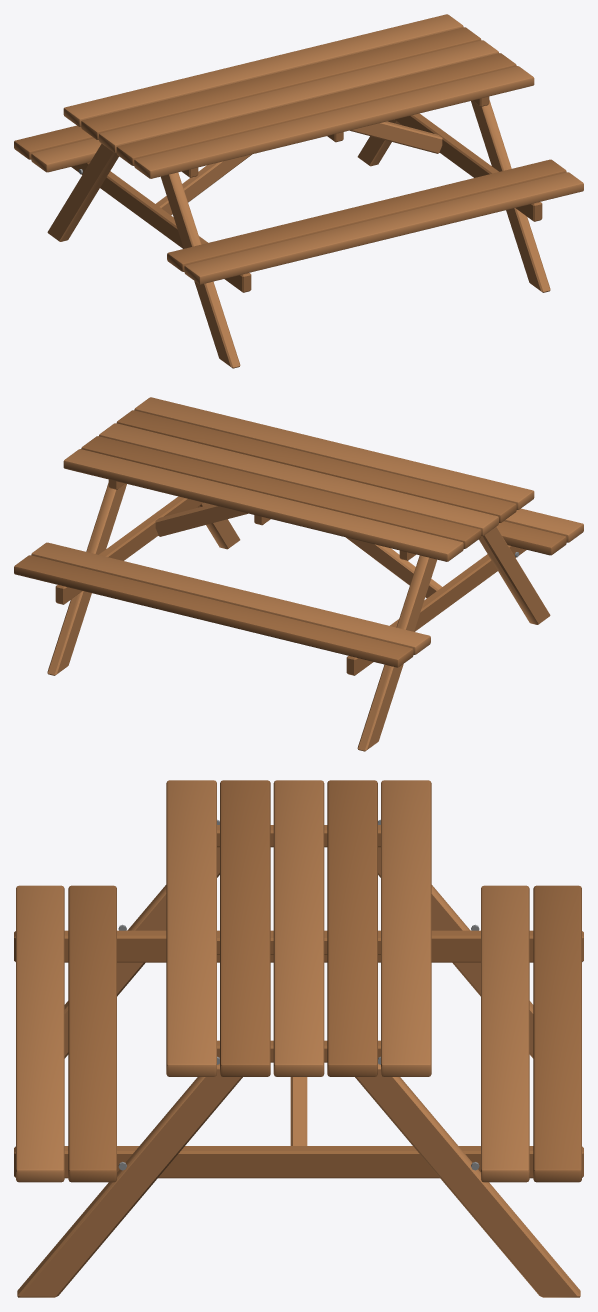
Rendered from PicnicTable.fbx.
3 renders of one model, top to bottom at view 1: azimuth 30°, elevation 25°; view 2: azimuth 150°, elevation 25°; view 3: azimuth 270°, elevation 25°, orthographic. The views are drawn at different scales.
Parts seen in each view (by area): view 1: PicnicTable_Mesh; view 2: PicnicTable_Mesh; view 3: PicnicTable_Mesh.
Boxes of the visible parts, x1,y1,x2,y2 form: PicnicTable_Mesh: [14, 14, 583, 368]; PicnicTable_Mesh: [14, 397, 583, 751]; PicnicTable_Mesh: [14, 780, 583, 1297].
Size of the model in its own units: 1.8 by 0.76 by 1.52.
